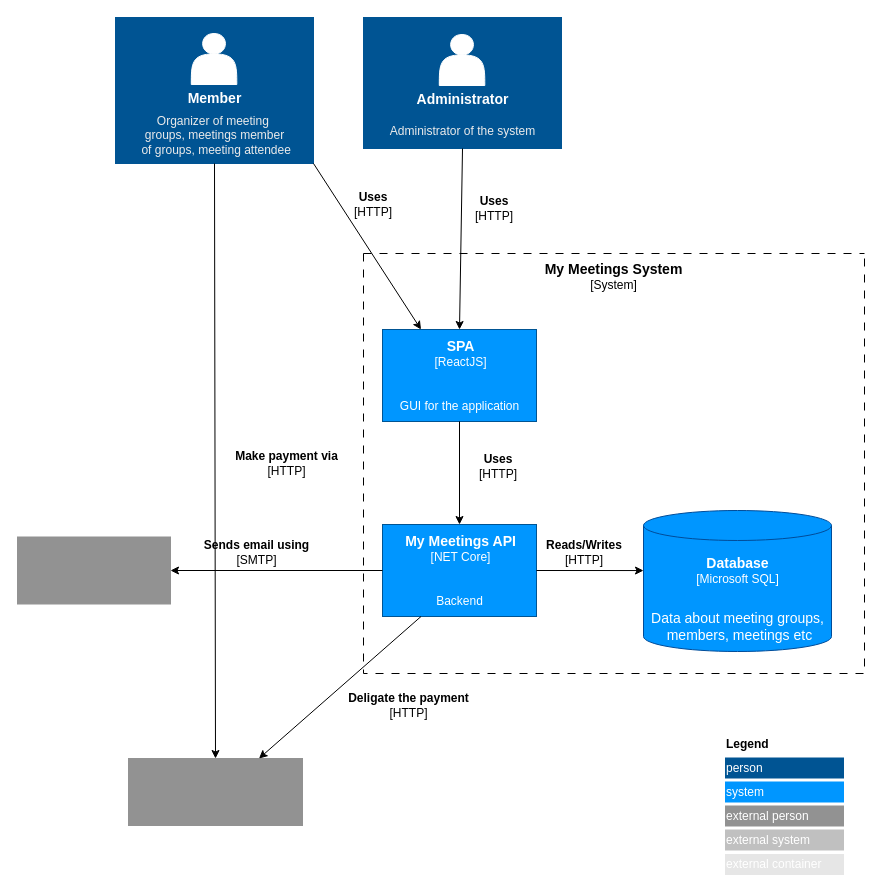
This 882x893 diagram has some shape labels left out. The box of each missing label's shape, as (x1, y1, x2, y2) in pixels:
Email System 3rd party SMTP server: (16, 536, 170, 604)
Payment Gateway 3rd party payment service: (128, 758, 302, 826)
